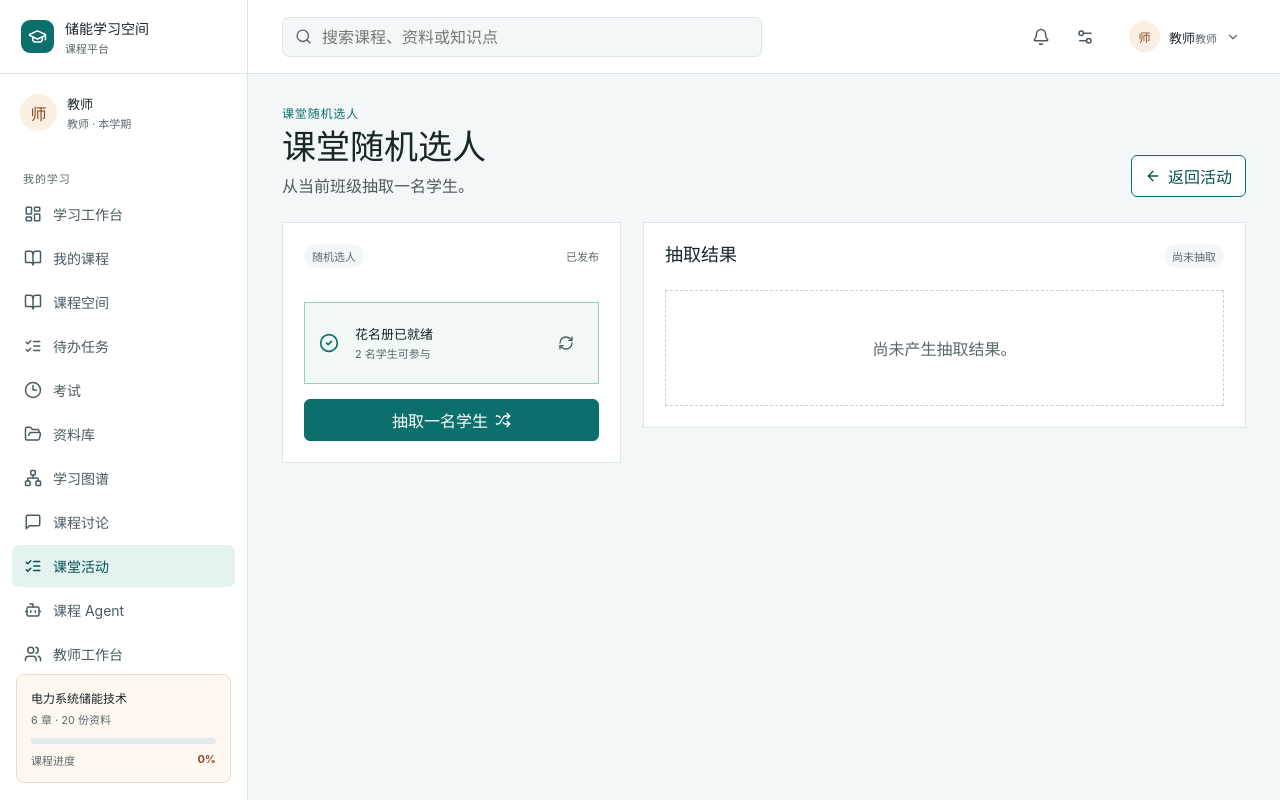
it: learning platform component › teacher randomly selects one roster member with one protected POST
This screenshot has width=1280, height=800.
Expected: the text "2 名学生可参与" is shown, [355, 347, 431, 361]
Click the button "抽取一名学生".
click(452, 420)  # box [304, 399, 599, 441]
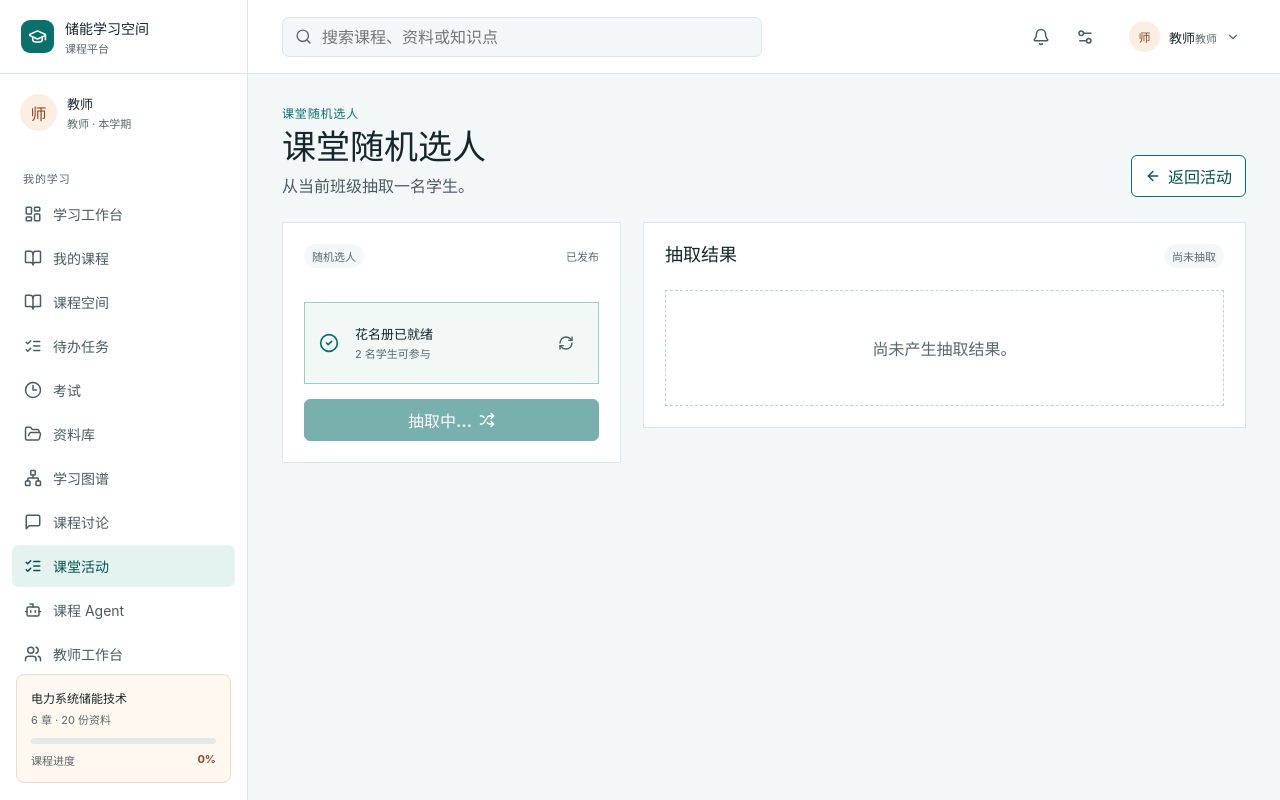
Click the button named "抽取一名学生".
click(452, 420)  # box [304, 399, 599, 441]
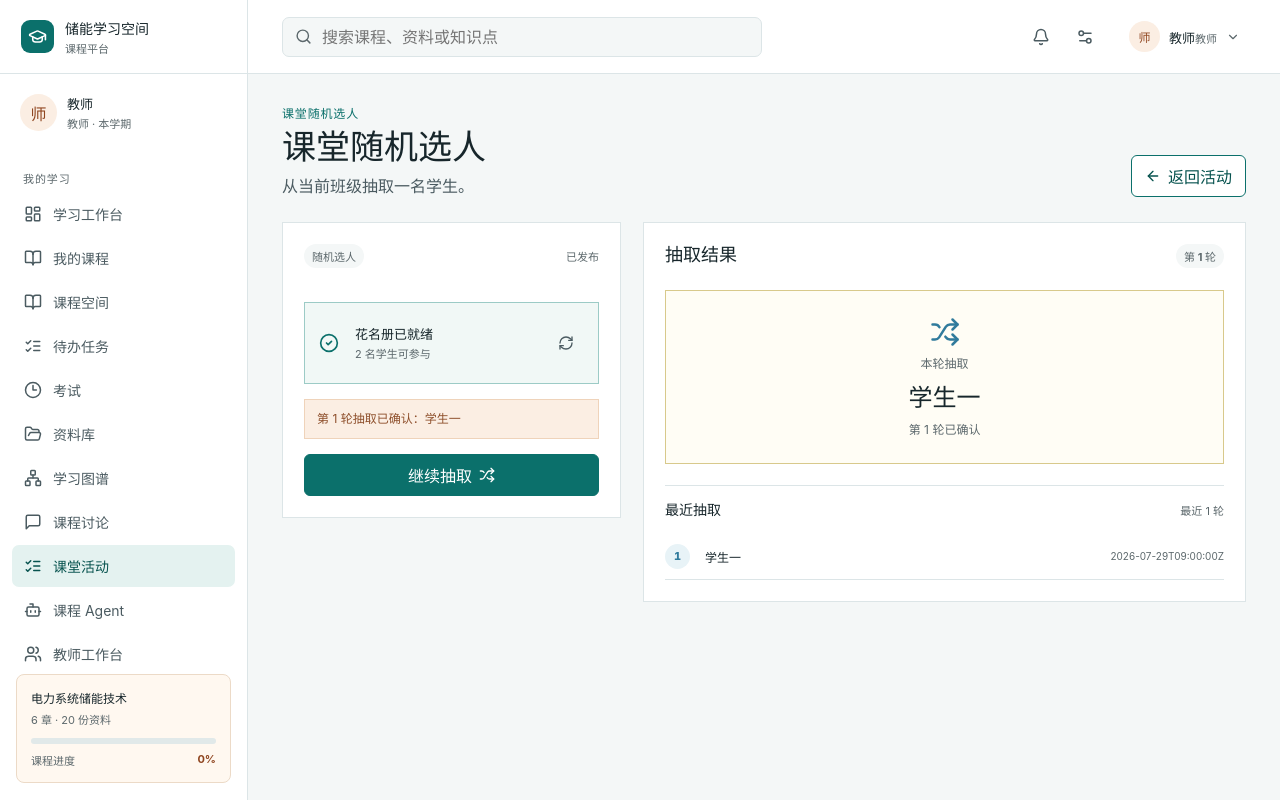
Now the text "第 1 轮抽取已确认：学生一" is shown, box [304, 399, 599, 439]
Now the text "学生一" below "本轮抽取" is shown, box [908, 383, 980, 412]
